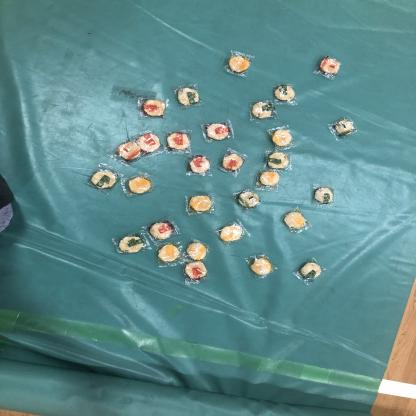green_setoshio: (86, 166, 122, 192), (268, 80, 303, 106), (116, 231, 150, 257), (296, 258, 330, 284), (328, 114, 360, 140), (246, 98, 278, 123), (234, 188, 267, 211), (176, 84, 204, 109), (308, 183, 338, 206), (264, 151, 293, 172)
red_setoshio: (214, 146, 248, 174), (200, 118, 236, 143), (136, 95, 169, 122), (135, 129, 165, 157), (112, 139, 145, 164), (146, 217, 180, 241), (184, 150, 215, 176), (182, 259, 215, 283), (315, 56, 347, 78), (167, 132, 195, 154)
yellow_setoshio: (216, 218, 253, 245), (123, 170, 156, 198), (244, 252, 278, 277), (280, 206, 311, 232), (184, 191, 216, 215), (223, 52, 254, 76), (153, 242, 184, 264), (269, 126, 297, 148), (185, 239, 210, 260), (256, 170, 283, 188)
